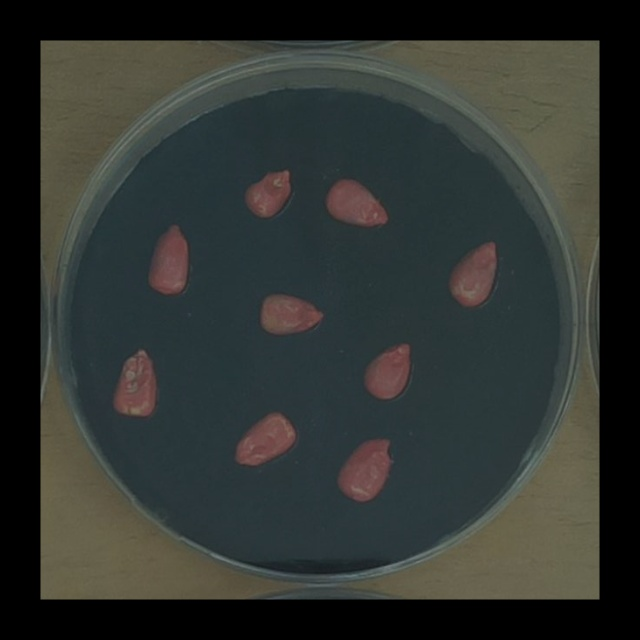Zea mays: (330, 430, 400, 507), (227, 405, 303, 475), (441, 232, 506, 313), (318, 168, 395, 235), (106, 340, 163, 423), (142, 217, 195, 300), (252, 286, 329, 341), (357, 337, 419, 405), (237, 161, 299, 228)
